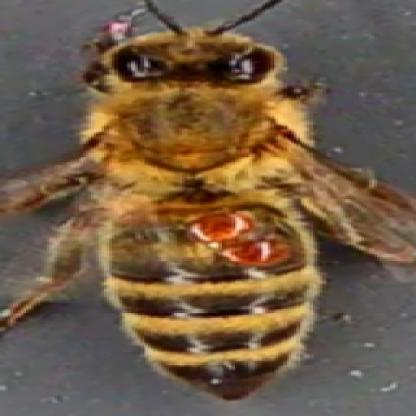bee: (77, 19, 331, 400)
vaoora: (230, 241, 282, 264), (200, 216, 246, 235)
